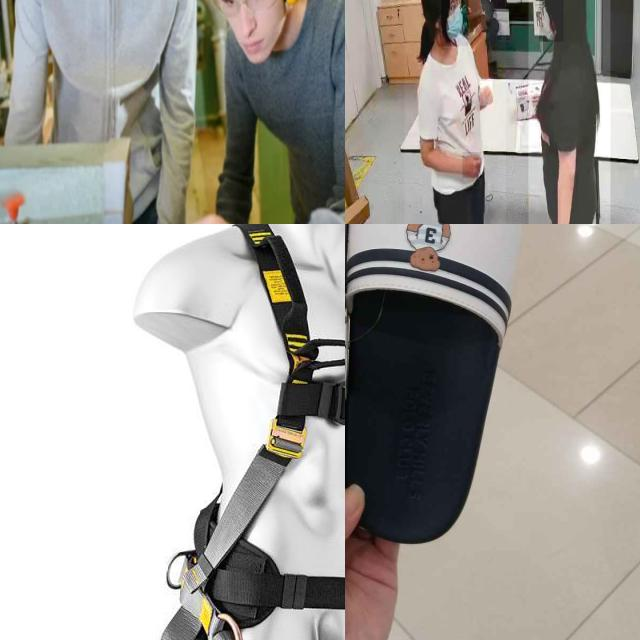Ear-protection: (197, 0, 317, 68)
Harness: (163, 224, 345, 640)
Sandals: (345, 224, 548, 558)
face_mask: (441, 0, 468, 46), (539, 0, 563, 41)
glasses: (211, 0, 284, 16)
hand_noglove: (462, 152, 482, 178), (479, 80, 493, 106)
person: (404, 0, 506, 224), (528, 0, 611, 224)
